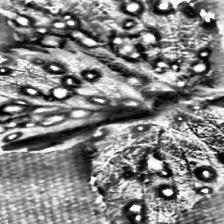Leaf Spot: (0, 0, 223, 93), (89, 102, 224, 224), (0, 48, 153, 152)
